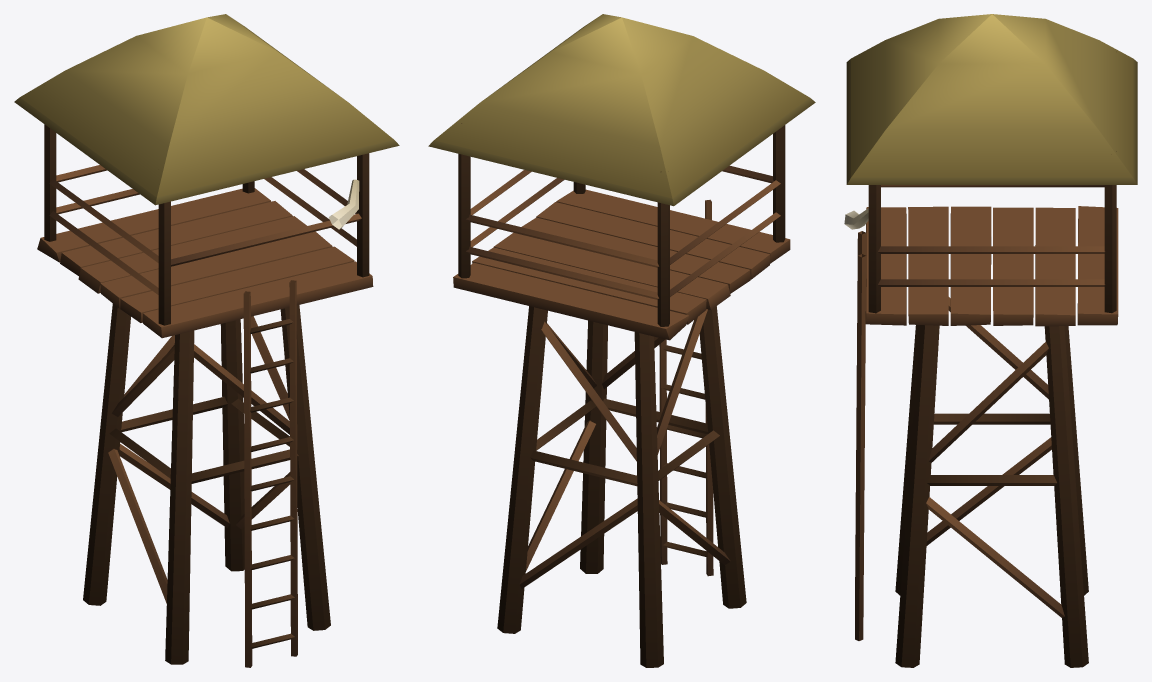
File: watchtower.glb
3 views of the same model, side by side, from view 1: azimuth 30°, elevation 25°; view 2: azimuth 150°, elevation 25°; view 3: azimuth 270°, elevation 25° (orthographic). The views are drawn at different scales.
Parts seen in each view (by area): view 1: watchtower, watchtower_trim; view 2: watchtower, watchtower_trim; view 3: watchtower, watchtower_trim.
Boxes of the visible parts, x1=… form: watchtower: x1=37, y1=124, x2=373, y2=667; watchtower_trim: x1=14, y1=14, x2=399, y2=229; watchtower: x1=453, y1=123, x2=790, y2=667; watchtower_trim: x1=428, y1=14, x2=815, y2=206; watchtower: x1=855, y1=151, x2=1118, y2=667; watchtower_trim: x1=844, y1=14, x2=1137, y2=229.
Bounding box in the file's own units: 0.9617 × 2.24 × 0.9694.
